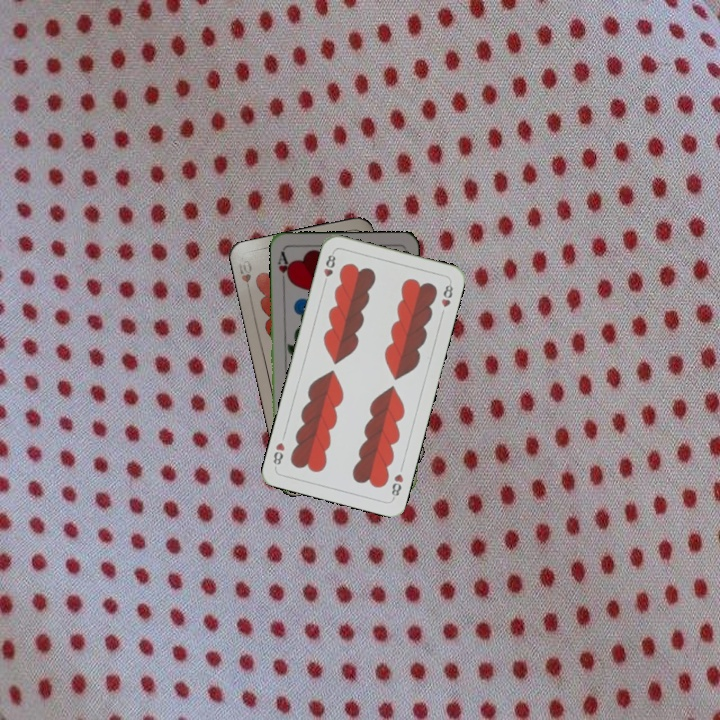H10: (234, 256, 255, 297)
H8: (320, 248, 338, 288), (387, 470, 406, 502)
HA: (273, 247, 293, 287)
